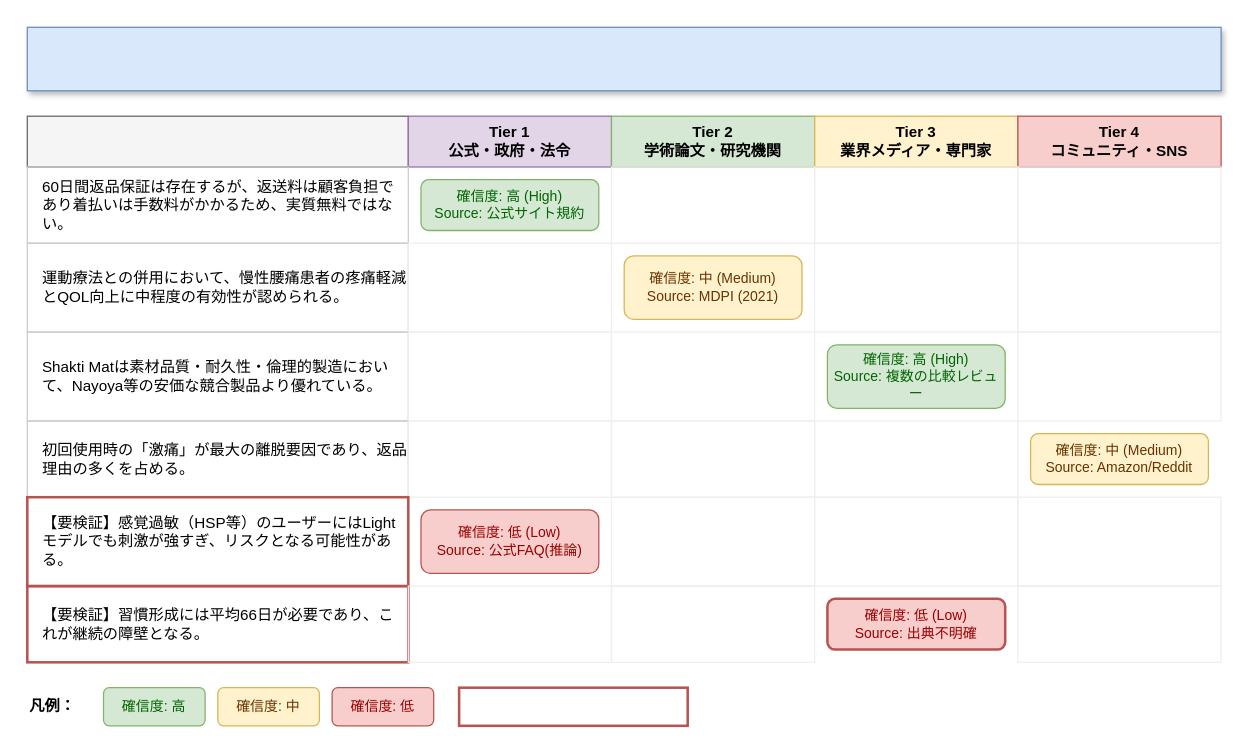
Some shapes in this 1251 by 749 pixel diagram are drawn without their labels. Here are the shapes that lost their labels. From the top down, the centre of each, then its label:
At point 625,60: "確信度ヒートマップ：シャクティマット購入検討リサーチ".
At point 217,141: "検証された主張 (Claim)".
At point 572,706: "要検証項目（エビデンス不足）".
